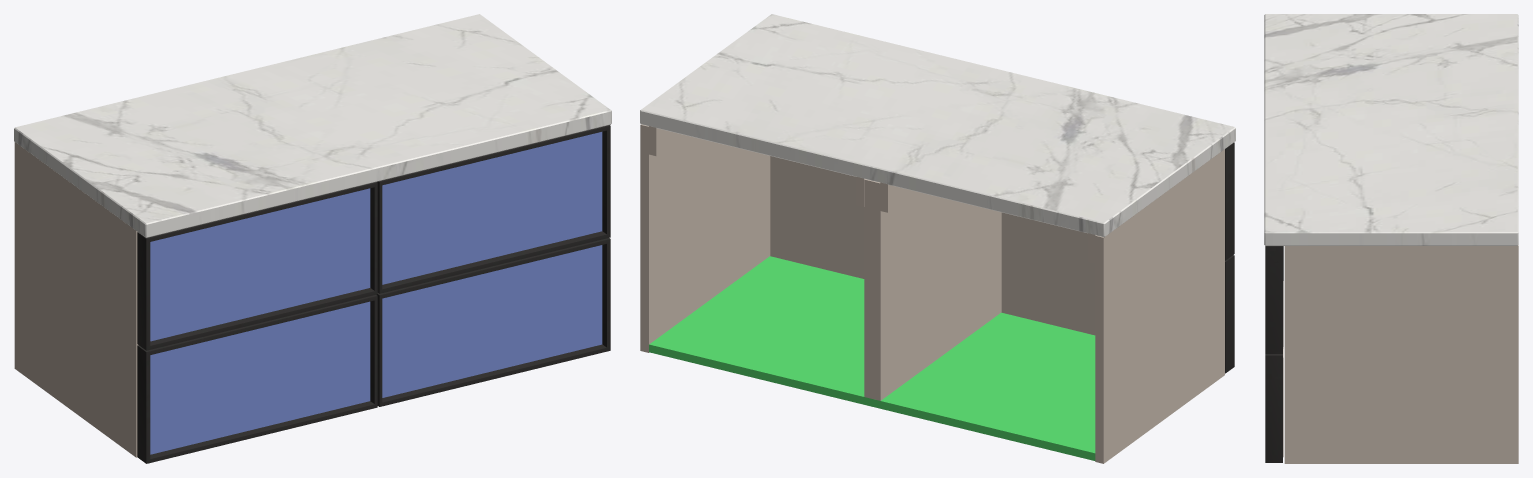
3 views of the same model, side by side, from view 1: azimuth 30°, elevation 25°; view 2: azimuth 150°, elevation 25°; view 3: azimuth 270°, elevation 25° (orthographic). The views are drawn at different scales.
Visible parts, largest first — view 1: AT05; view 2: AT05; view 3: AT05.
Boxes of the visible parts, x1=… form: AT05: x1=14, y1=14, x2=611, y2=463; AT05: x1=640, y1=14, x2=1235, y2=463; AT05: x1=1264, y1=14, x2=1518, y2=463.
Bounding box in the file's own units: 0.996 × 0.4929 × 0.489.
5 materials, 2 textured.
